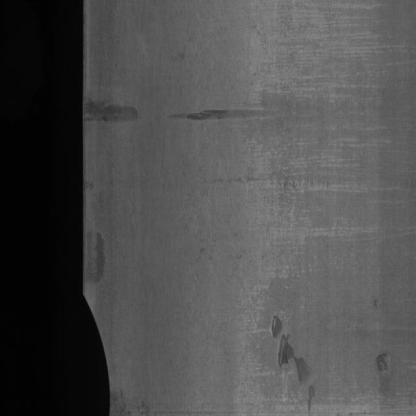crescent_gap: (72, 290, 118, 416)
